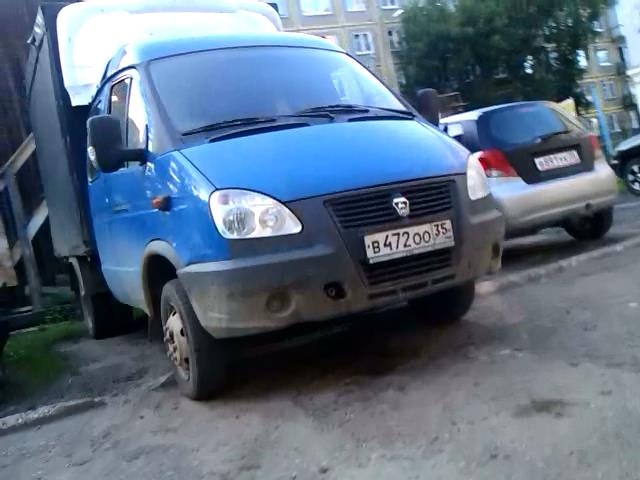car license plate: (361, 218, 456, 266), (532, 146, 585, 174)
